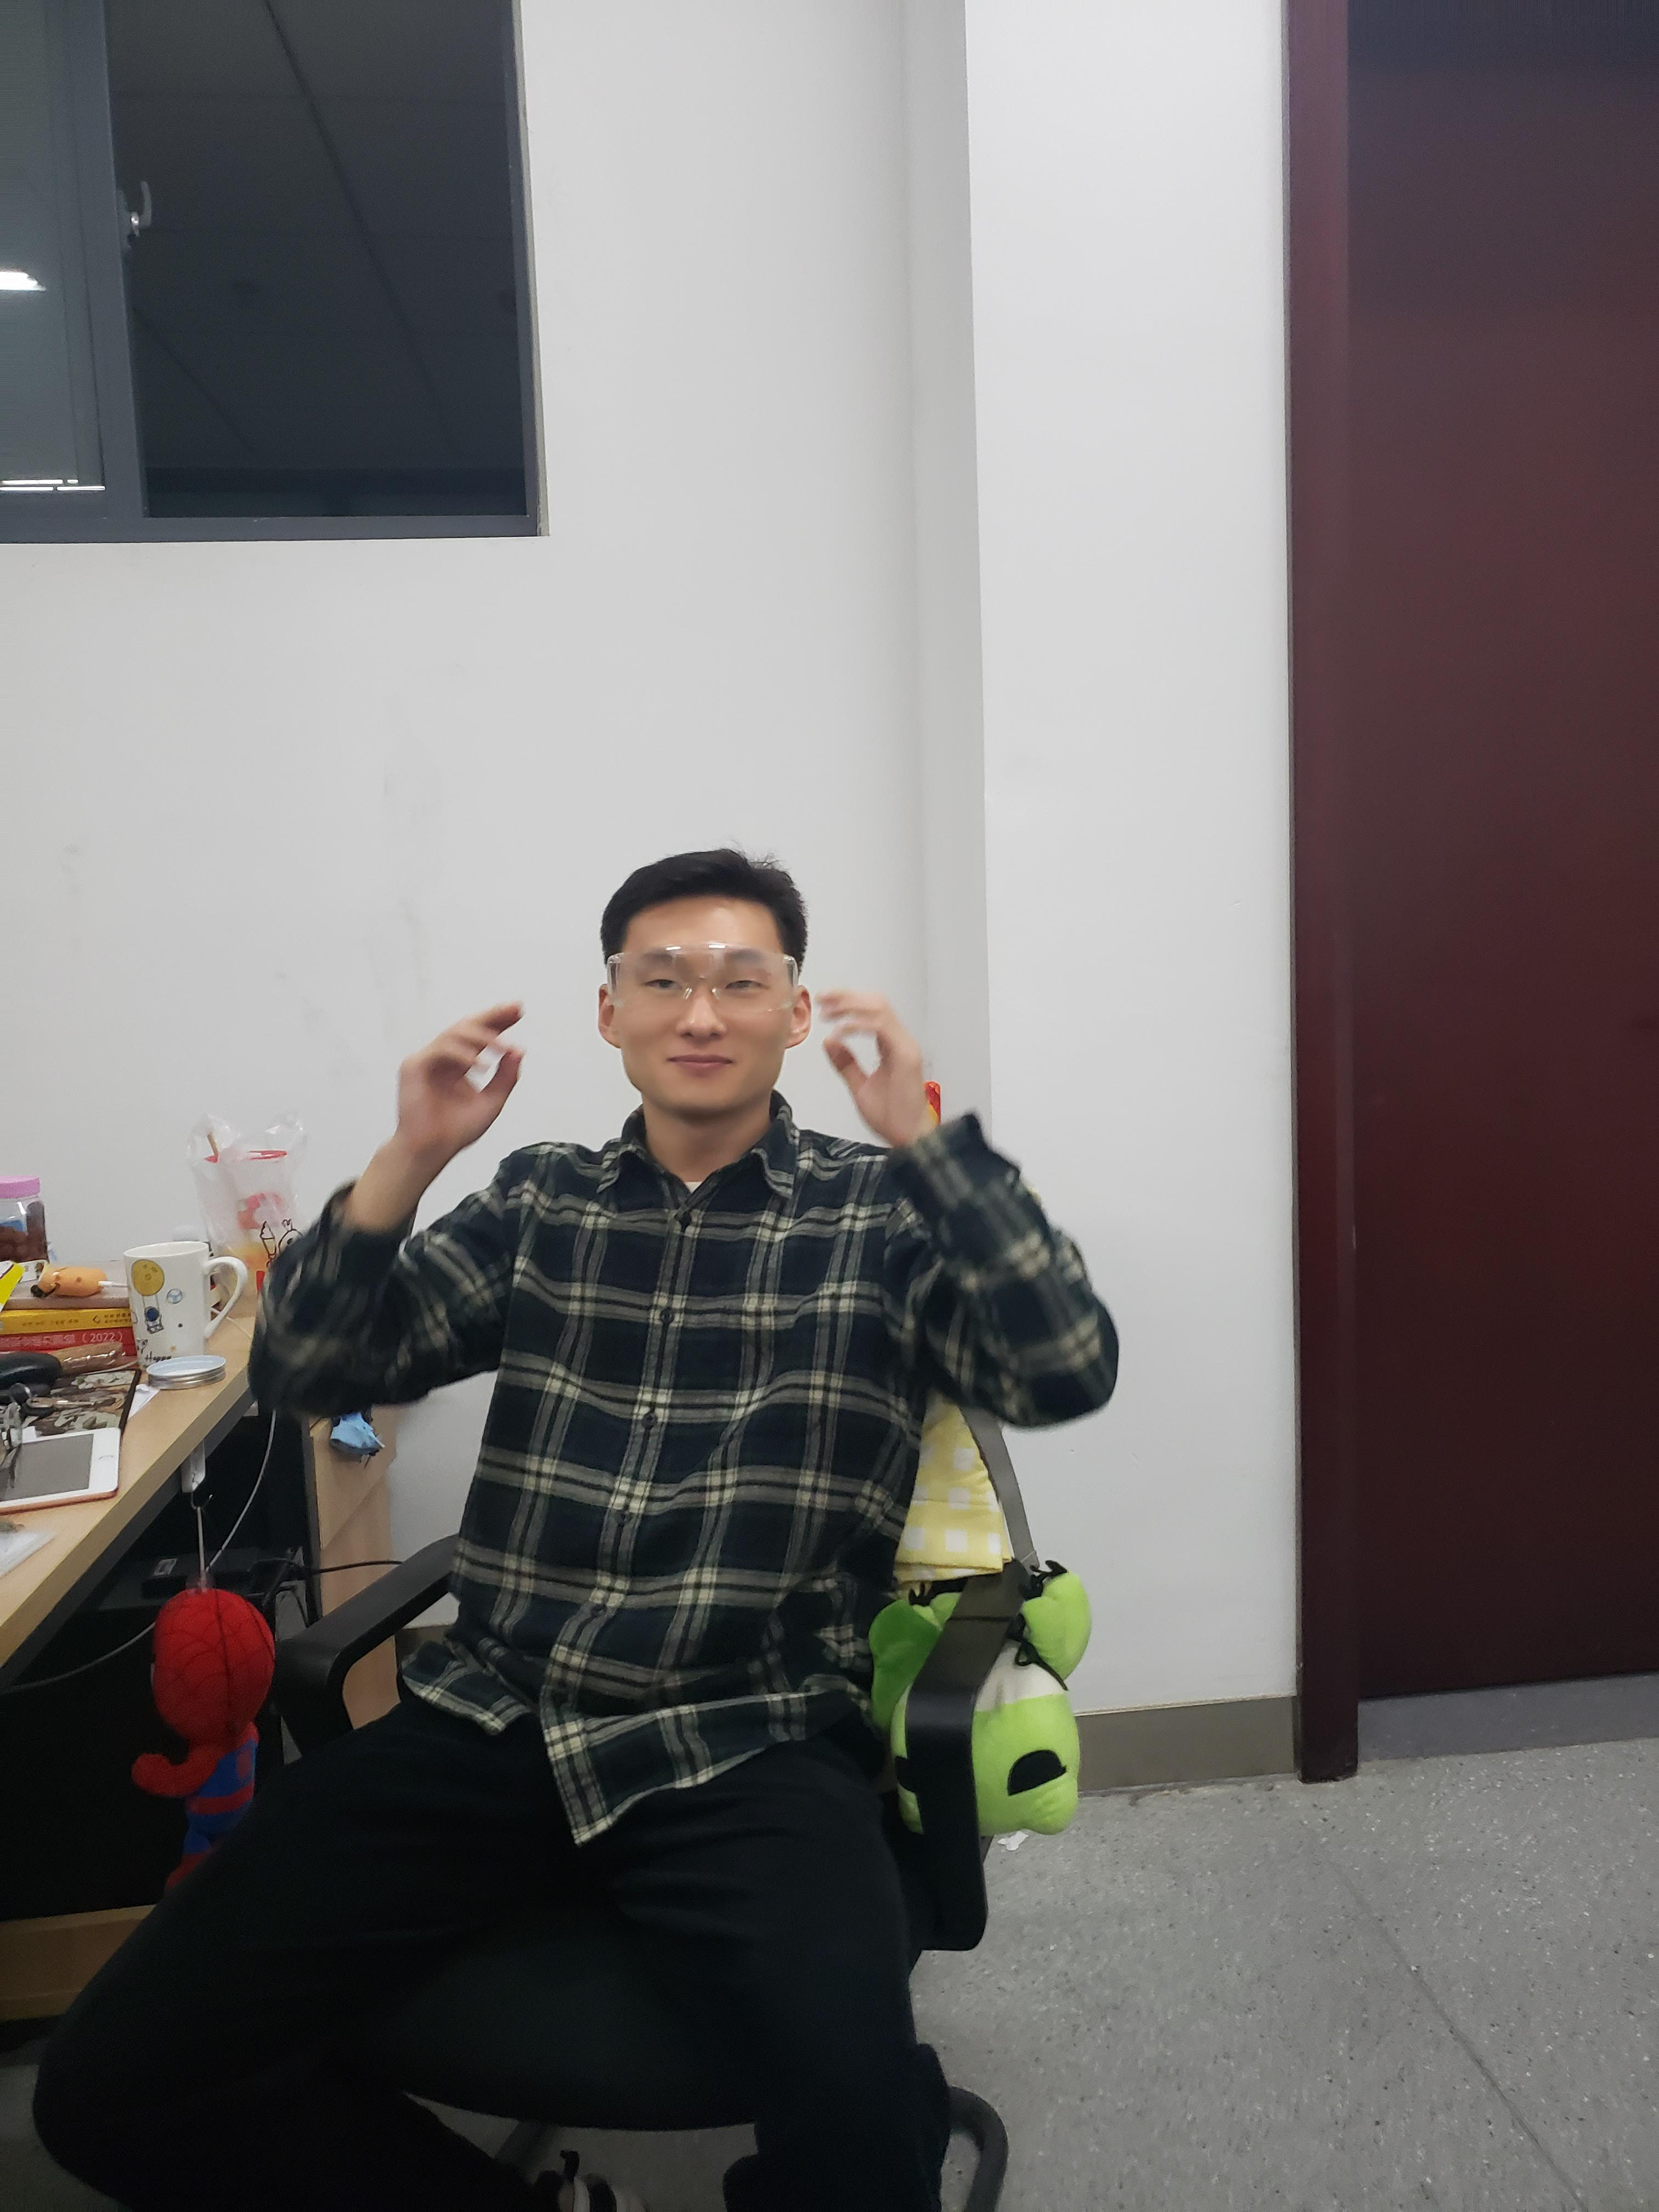glasses: (592, 934, 802, 1021)
